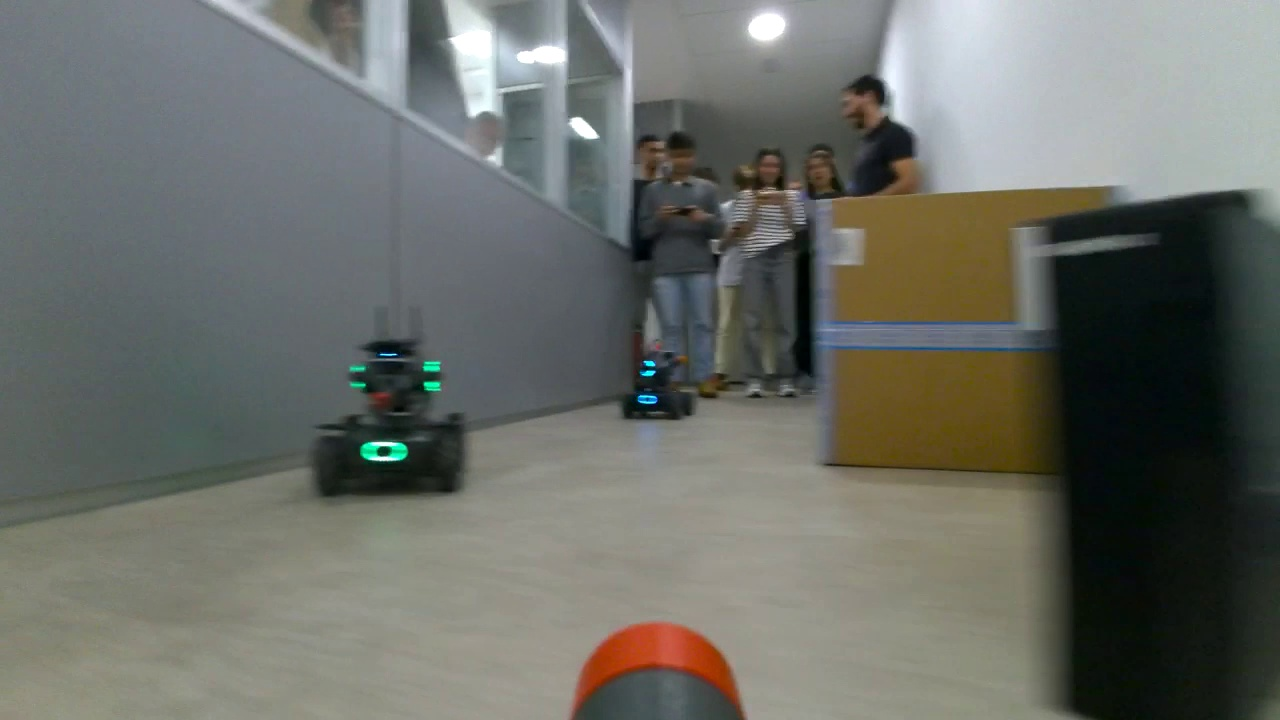robot: (306, 336, 479, 502), (617, 349, 701, 423)
